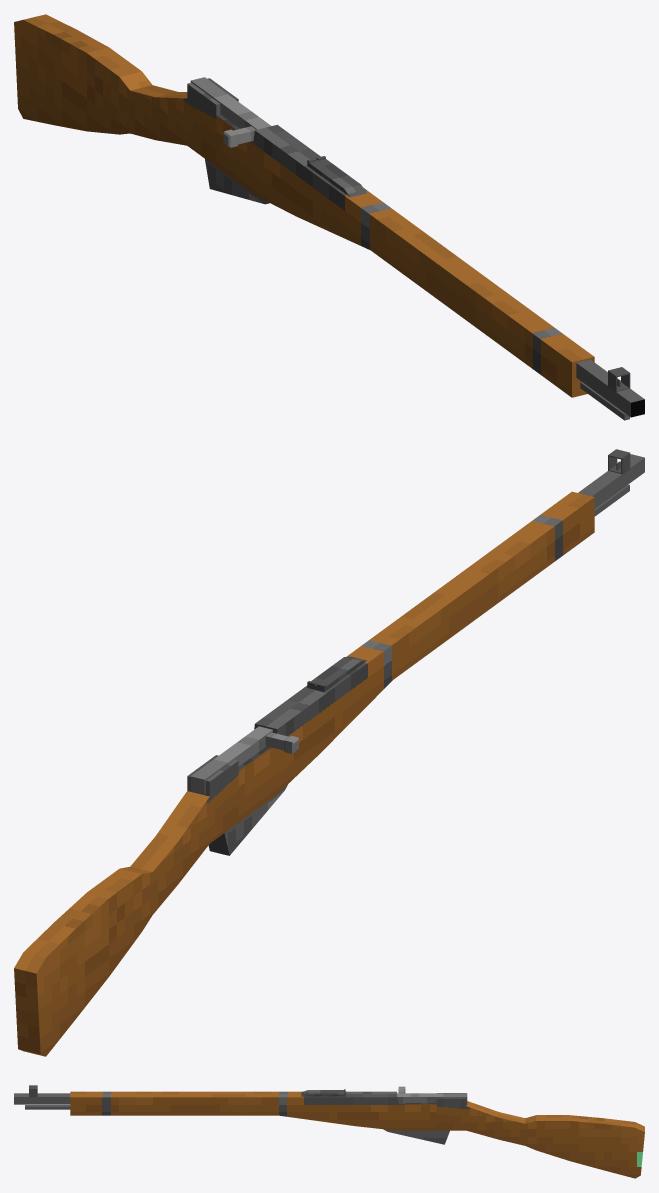
The model's file is mosin.gltf.
3 views of the same model, one above another, from view 1: azimuth 30°, elevation 25°; view 2: azimuth 150°, elevation 25°; view 3: azimuth 270°, elevation 25° (orthographic). The views are drawn at different scales.
Parts seen in each view (by area): view 1: stock, barrel_model, block, rear_sightpost, magazine; view 2: stock, block, barrel_model, magazine, rear_sightpost; view 3: stock, barrel_model (×2), block, magazine, rear_sightpost.
Boxes of the visible parts, x1=… form: stock: x1=14, y1=14, x2=594, y2=397; barrel_model: x1=576, y1=359, x2=644, y2=417; block: x1=190, y1=77, x2=271, y2=129; rear_sightpost: x1=307, y1=156, x2=366, y2=197; magazine: x1=205, y1=159, x2=269, y2=204; stock: x1=14, y1=491, x2=594, y2=1056; block: x1=190, y1=726, x2=272, y2=794; barrel_model: x1=578, y1=454, x2=644, y2=508; magazine: x1=208, y1=784, x2=287, y2=855; rear_sightpost: x1=307, y1=656, x2=366, y2=691; stock: x1=70, y1=1091, x2=644, y2=1178; barrel_model (×2): x1=14, y1=1093, x2=70, y2=1109; block: x1=397, y1=1093, x2=467, y2=1104; magazine: x1=383, y1=1129, x2=449, y2=1144; rear_sightpost: x1=301, y1=1089, x2=345, y2=1096.
Size of the model in its own units: 0.0516 by 0.1822 by 1.17.
Materials: 1 (1 with a texture image).
